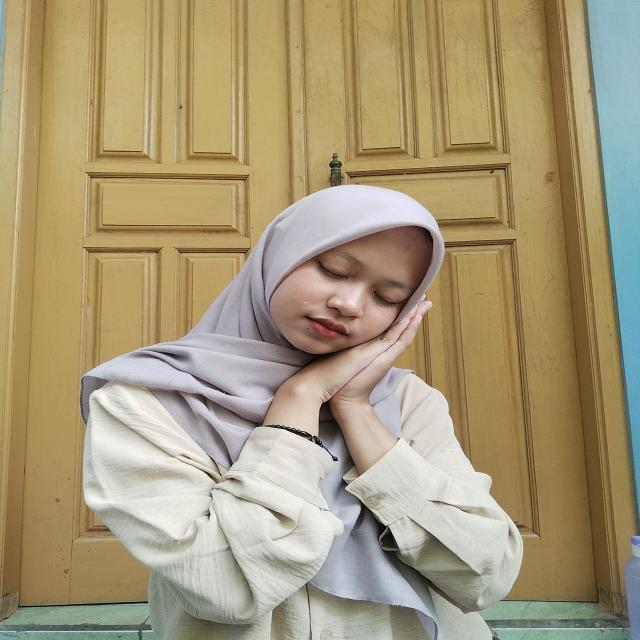tidur: (256, 296, 436, 475)
